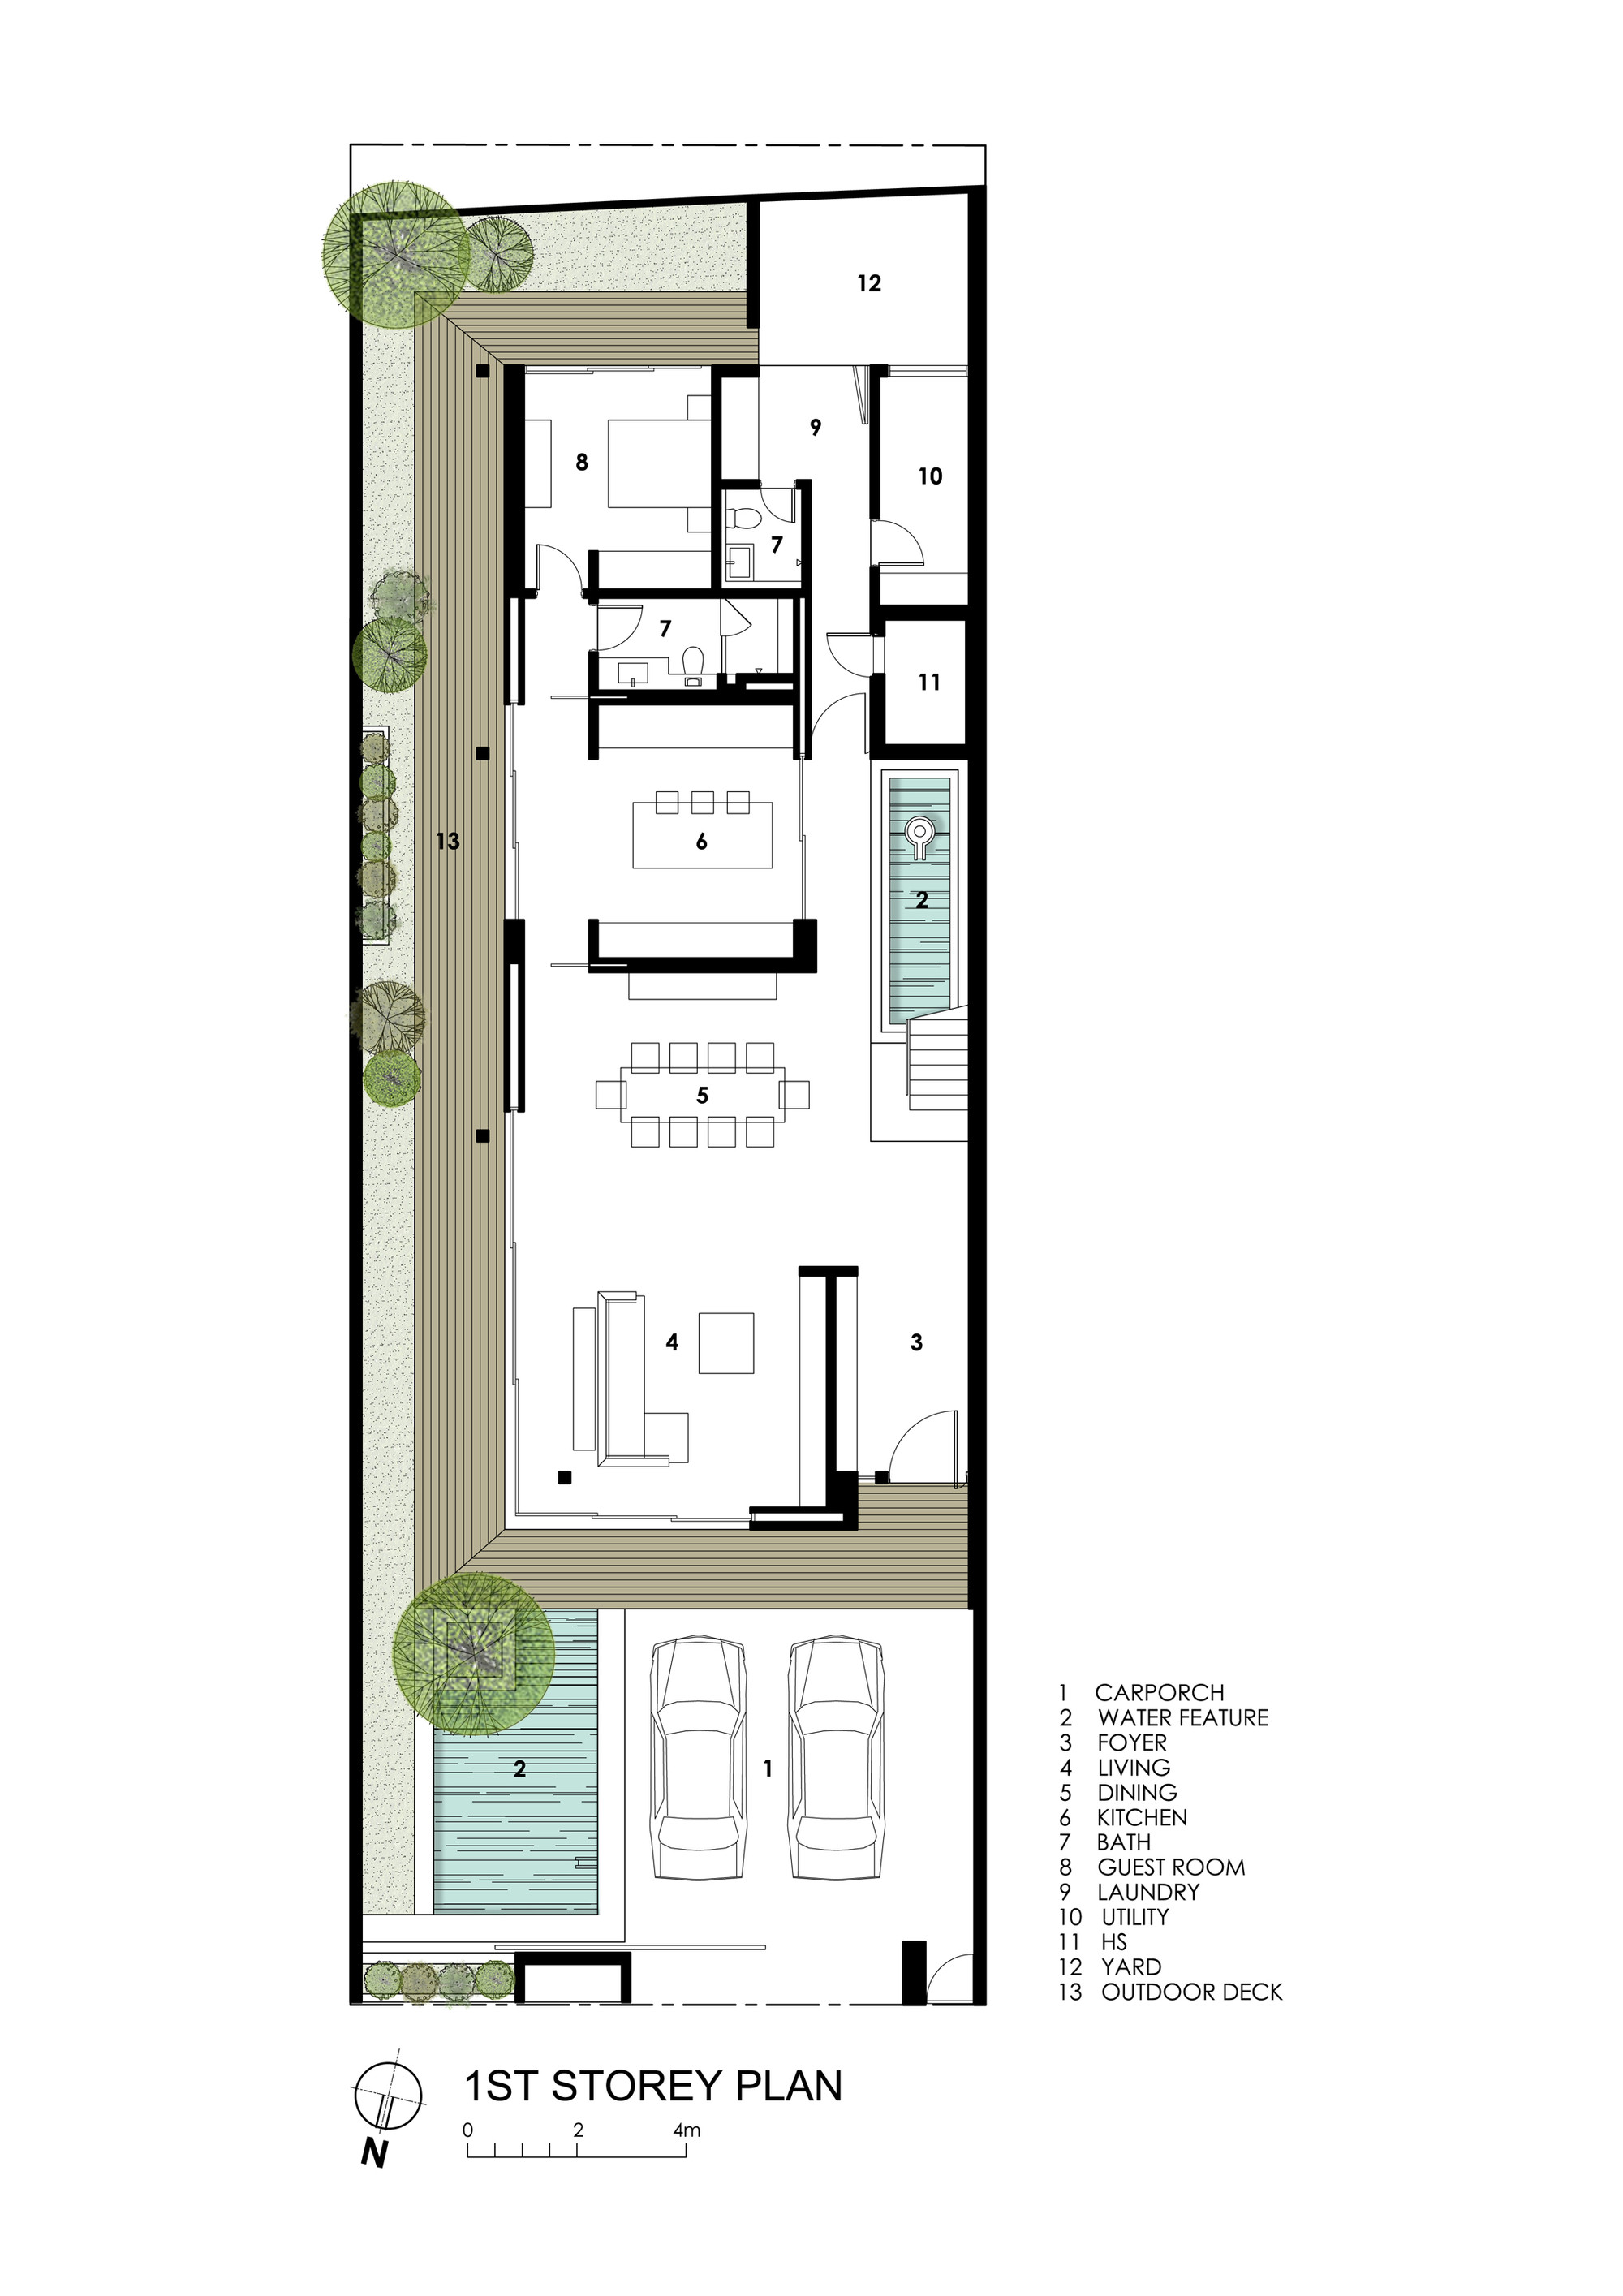door: (889, 1400, 963, 1483), (811, 692, 869, 752), (597, 601, 646, 652), (824, 629, 873, 680), (876, 518, 926, 569), (534, 539, 581, 590), (759, 488, 799, 523)
